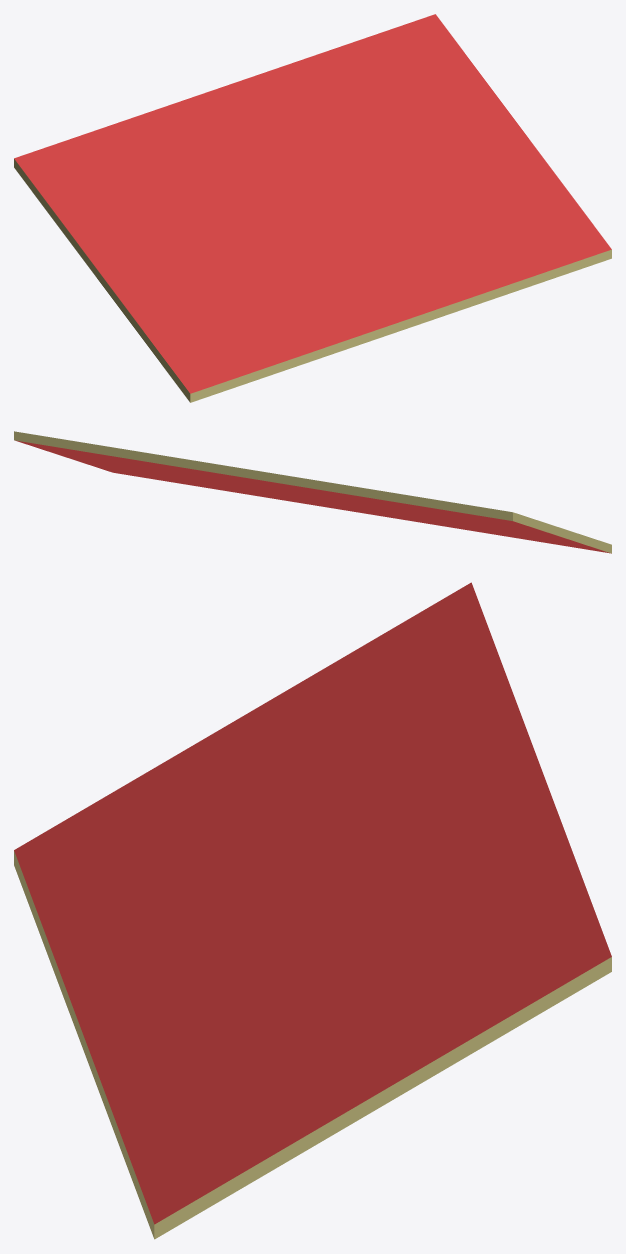
3 renders of one model, top to bottom at view 1: azimuth 30°, elevation 25°; view 2: azimuth 150°, elevation 25°; view 3: azimuth 270°, elevation 25°, orthographic. The views are drawn at different scales.
Size of the model in its own units: 5.79 by 3.61 by 1.68.
